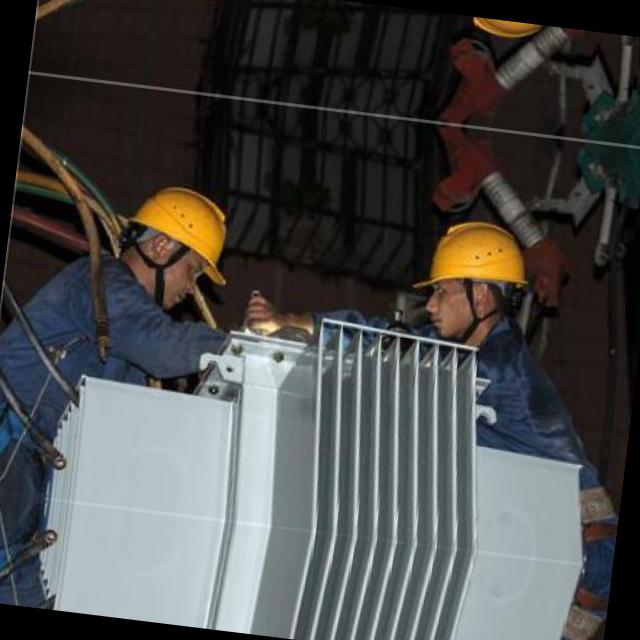helmet: (409, 200, 546, 348), (109, 167, 247, 311), (444, 13, 570, 59), (145, 0, 272, 19)
